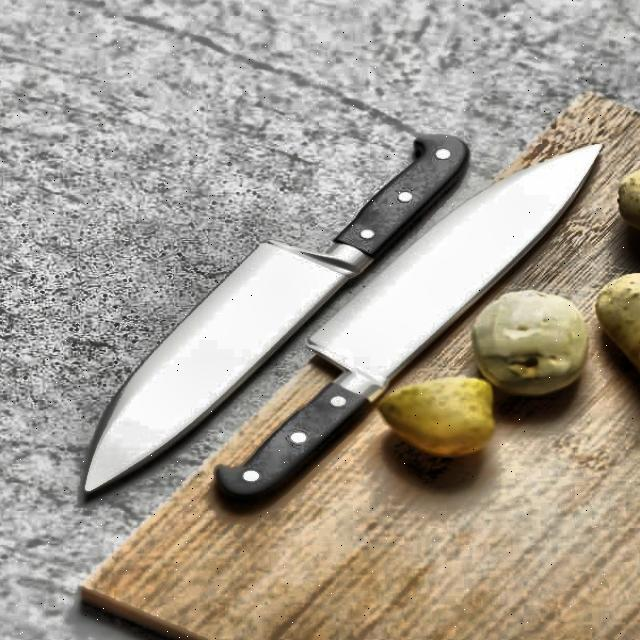knife: (211, 144, 616, 523), (79, 141, 475, 502)
